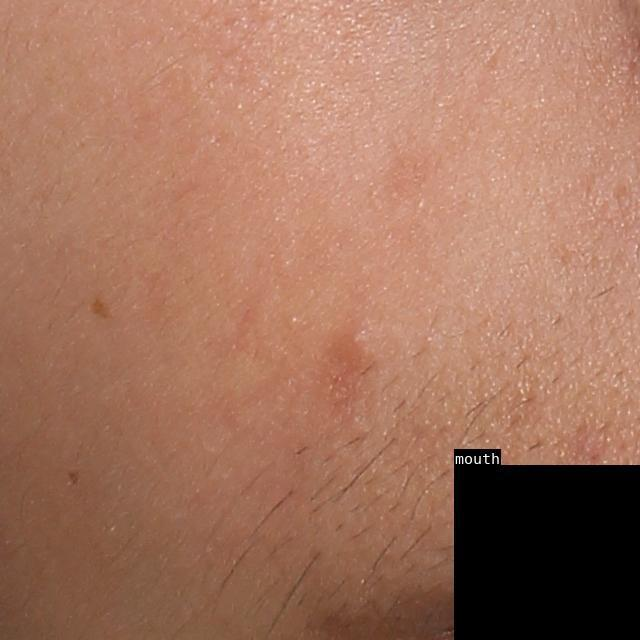melasma: (86, 295, 115, 320)
